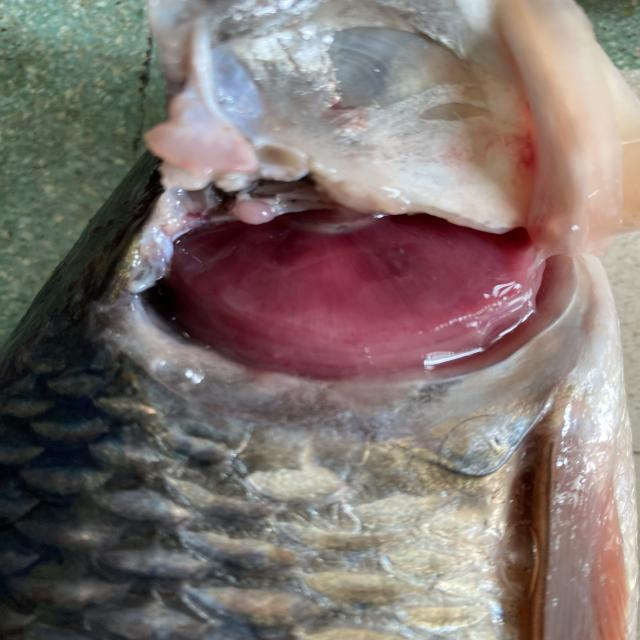Fresh: (132, 172, 631, 398)
